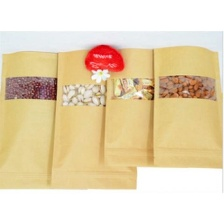snack: (46, 45, 141, 195), (0, 47, 90, 195), (147, 41, 224, 173), (99, 44, 177, 170)
